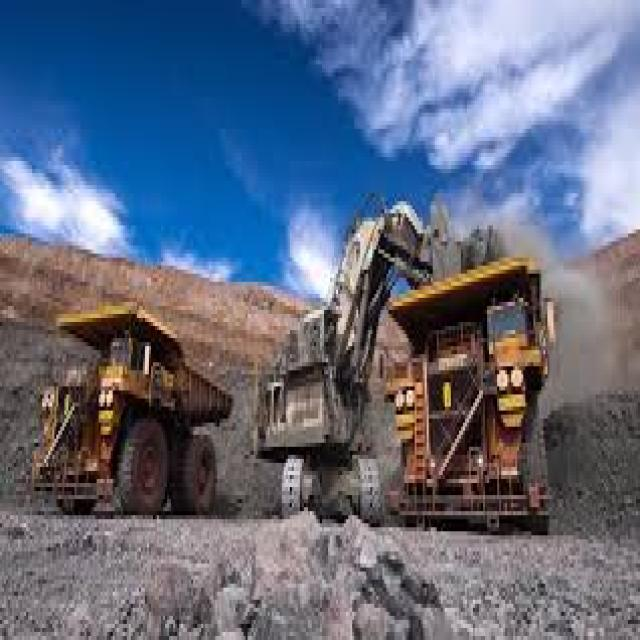dump_truck: (32, 274, 238, 543), (392, 246, 562, 564)
excavator: (254, 177, 501, 552)
